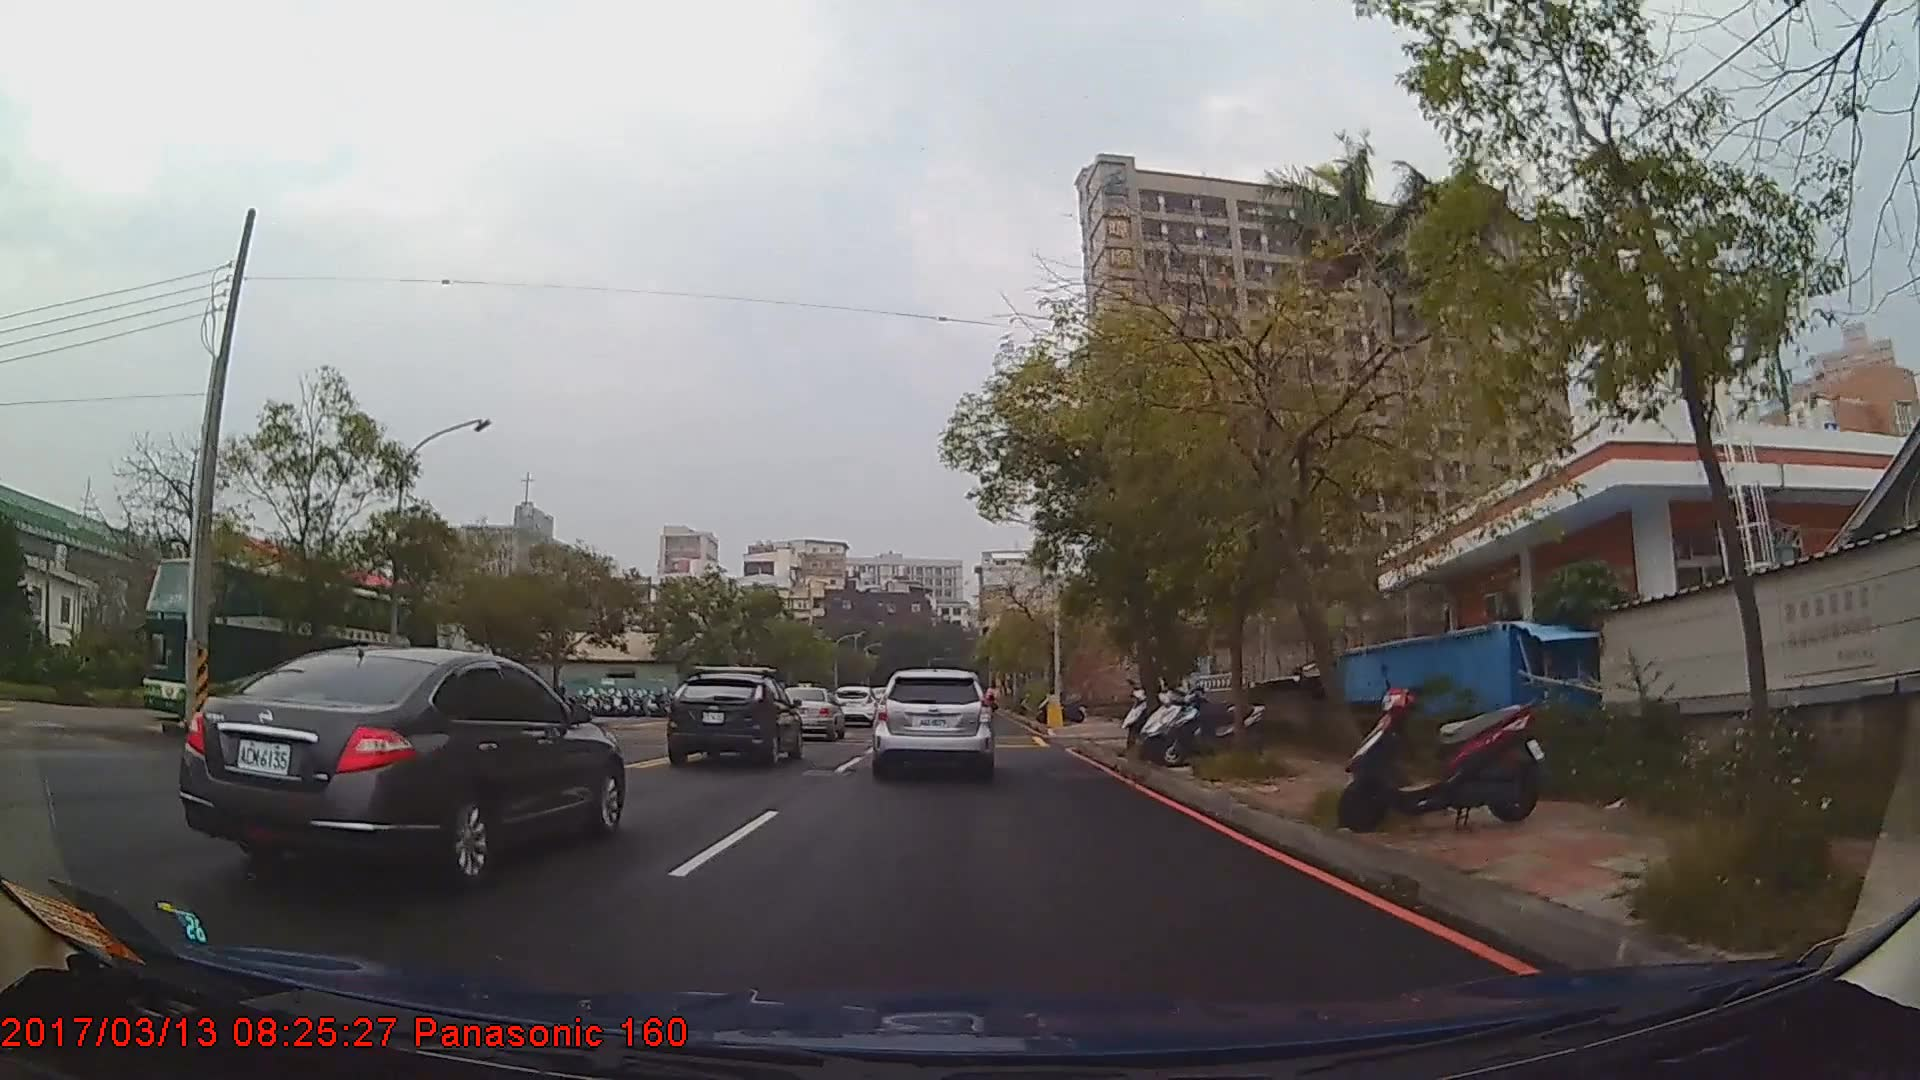vehicle: (177, 644, 626, 884), (135, 553, 443, 744), (663, 671, 803, 771), (873, 666, 990, 777), (775, 684, 843, 742), (832, 683, 880, 727)
